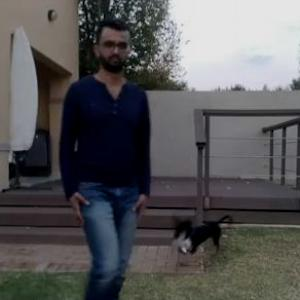follow: (72, 31, 170, 299)
